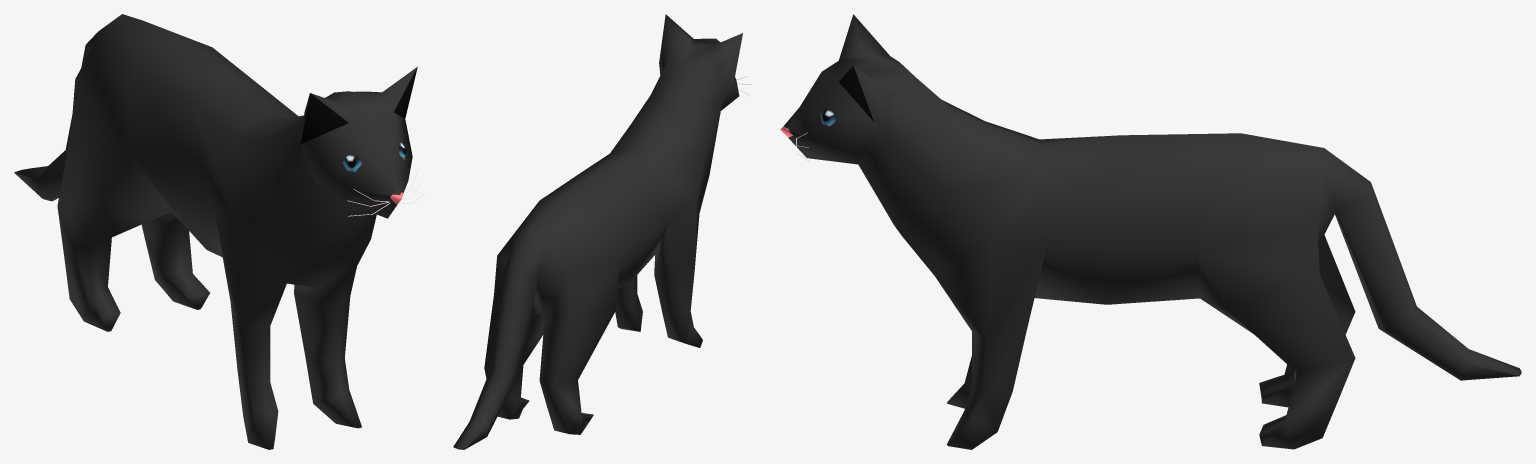
File: Cat01.glb
3 renders of one model, left to right at view 1: azimuth 30°, elevation 25°; view 2: azimuth 150°, elevation 25°; view 3: azimuth 270°, elevation 25°, orthographic. The views are drawn at different scales.
Parts seen in each view (by area): view 1: Cat01; view 2: Cat01; view 3: Cat01.
Part boxes in pixels (x1,y1,x2,y2): Cat01: (14,14,424,449); Cat01: (453,14,751,449); Cat01: (780,14,1521,449).
Size of what is drawn, in the model's own units: 0.2013 by 0.5596 by 0.9788.
1 material, 1 textured.
